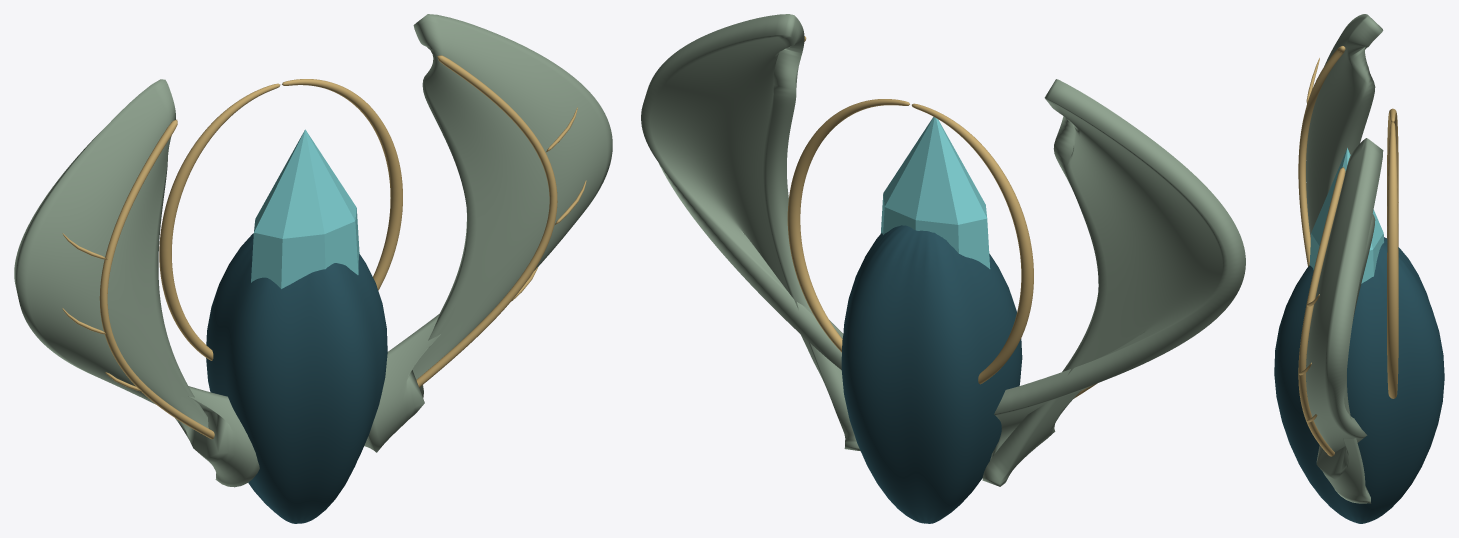
File: keeper.glb
3 views of the same model, side by side, from view 1: azimuth 30°, elevation 25°; view 2: azimuth 150°, elevation 25°; view 3: azimuth 270°, elevation 25° (orthographic). The views are drawn at different scales.
Parts seen in each view (by area): view 1: Crescent wing shell, Keeper lower carapace, Engraved wing keel, Cut opal heart; view 2: Crescent wing shell, Keeper lower carapace, Cut opal heart, Engraved wing keel; view 3: Keeper lower carapace, Crescent wing shell, Engraved wing keel, Cut opal heart.
Part boxes in pixels (box(x1,y1,x2,y2)): Crescent wing shell: box(14, 14, 612, 487); Keeper lower carapace: box(206, 233, 387, 523); Engraved wing keel: box(62, 55, 586, 439); Cut opal heart: box(251, 129, 359, 288); Crescent wing shell: box(641, 14, 1245, 486); Keeper lower carapace: box(841, 225, 1022, 523); Cut opal heart: box(880, 117, 990, 268); Engraved wing keel: box(787, 36, 1097, 398); Keeper lower carapace: box(1274, 237, 1444, 523); Crescent wing shell: box(1306, 14, 1383, 503); Engraved wing keel: box(1298, 46, 1398, 456); Cut opal heart: box(1309, 148, 1383, 283).
Bounding box in the file's own units: 1.85 × 1.41 × 0.4879.
